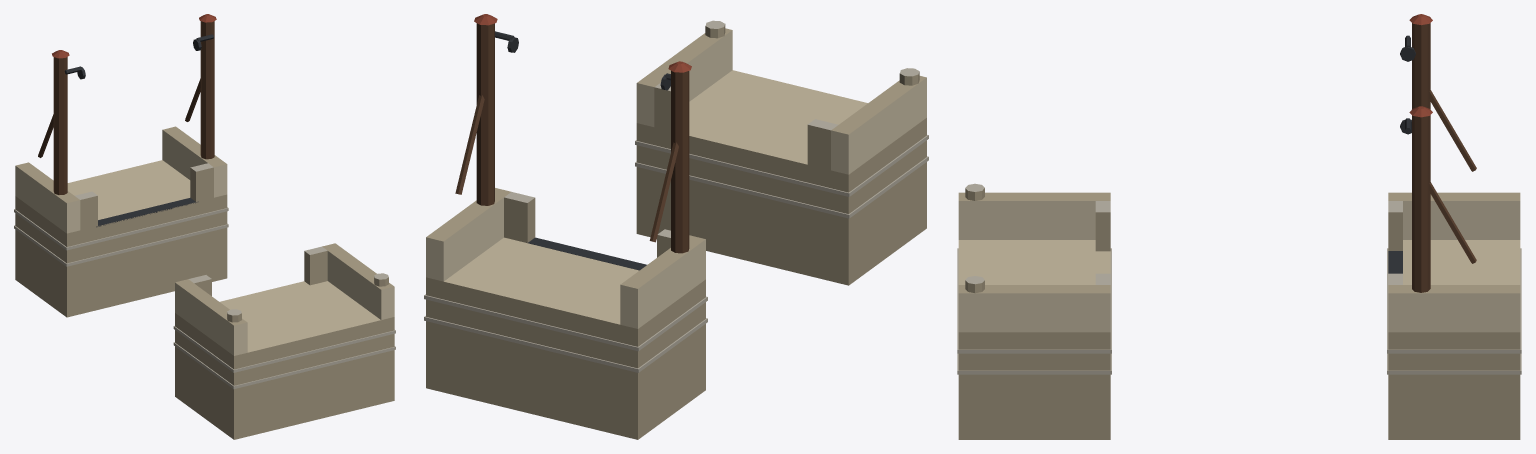
Rendered from castle_bridge.glb.
The picture shows the model from 3 angles, left to right: view 1: azimuth 30°, elevation 25°; view 2: azimuth 150°, elevation 25°; view 3: azimuth 270°, elevation 25°; orthographic projection. The views are drawn at different scales.
Visible parts, largest first — view 1: LOD0; view 2: LOD0; view 3: LOD0.
Boxes of the visible parts, bbox=[...] form: LOD0: bbox=[14, 14, 395, 439]; LOD0: bbox=[424, 14, 928, 439]; LOD0: bbox=[957, 14, 1521, 439].
Size of the model in its own units: 7.32 by 10.96 by 17.08.
Materials: 1 (1 with a texture image).
